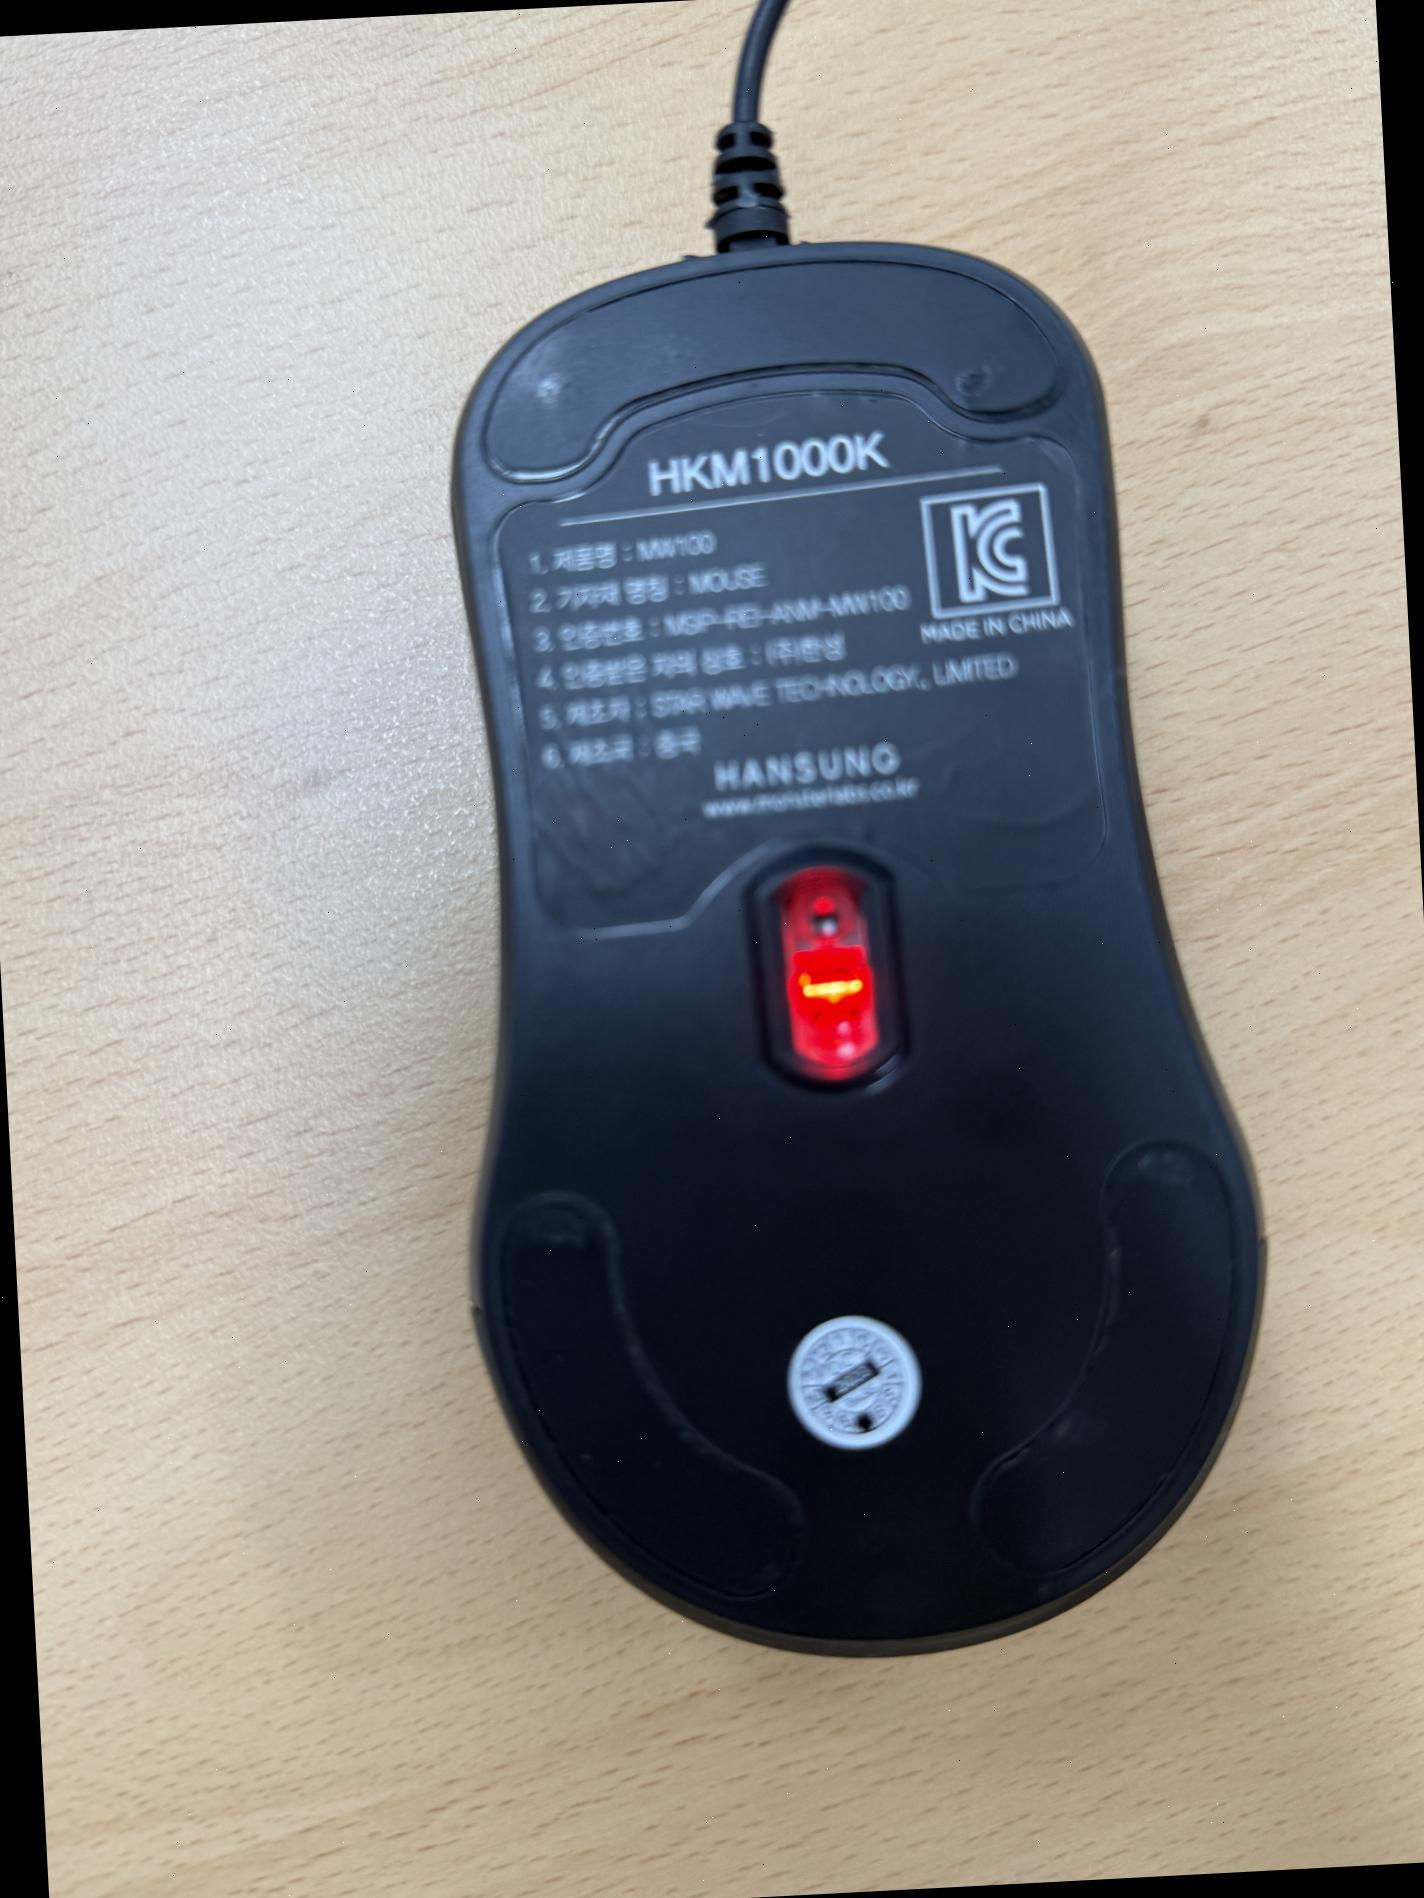back: (411, 209, 1292, 1681)
